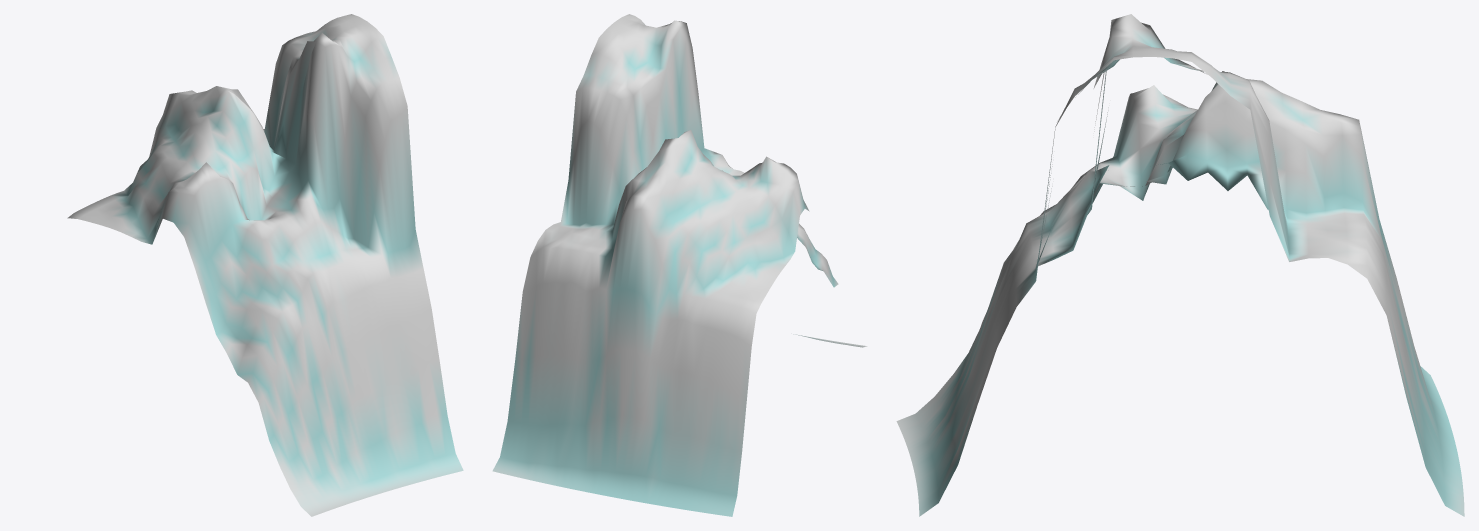
Rendered from middle_9.glb.
3 views of the same model, side by side, from view 1: azimuth 30°, elevation 25°; view 2: azimuth 150°, elevation 25°; view 3: azimuth 270°, elevation 25° (orthographic). The views are drawn at different scales.
Visible parts, largest first — view 1: Mountain; view 2: Mountain; view 3: Mountain.
Boxes of the visible parts, box(x1,y1,x2,y2) form: Mountain: box(67, 14, 463, 516); Mountain: box(492, 14, 867, 516); Mountain: box(896, 14, 1464, 516).
Bounding box in the file's own units: 369 × 572 × 625.
